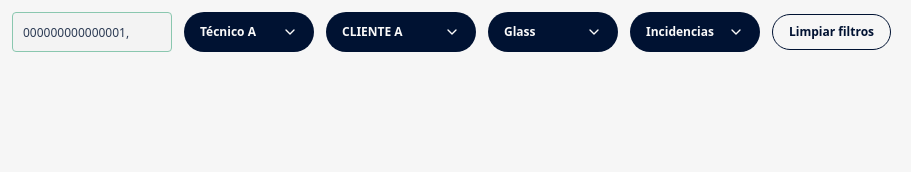
Test: BarraFiltros › Limpiar filtros resetea los cinco
Click the button "Limpiar filtros" at {"x": 832, "y": 32}, box [772,14,891,50]
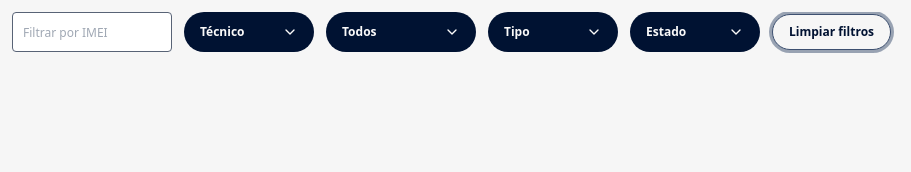
Expected: the button "Técnico" is shown, [184,12,314,52]
Now the button "Todos" is shown, box [326,12,476,52]
Now the field labelled "Filtrar por IMEI" is empty, box [12,12,172,52]
